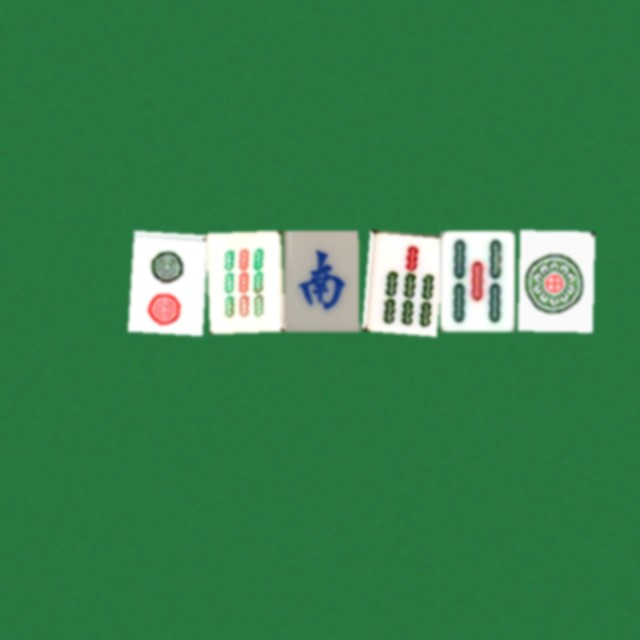tile: (127, 230, 202, 331), (205, 230, 280, 331), (283, 230, 358, 331), (361, 230, 436, 331), (439, 230, 514, 331), (517, 230, 592, 331)
